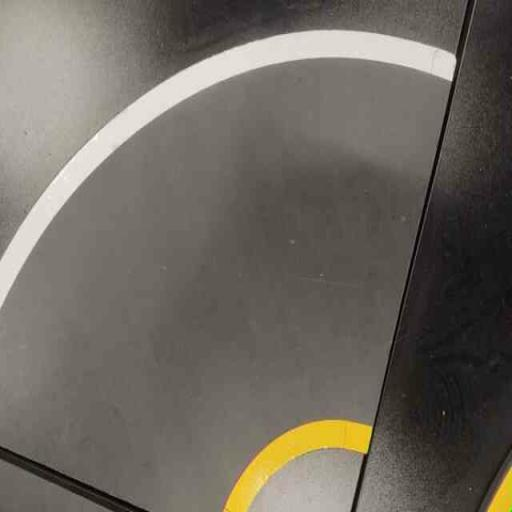left: (5, 8, 462, 511)
